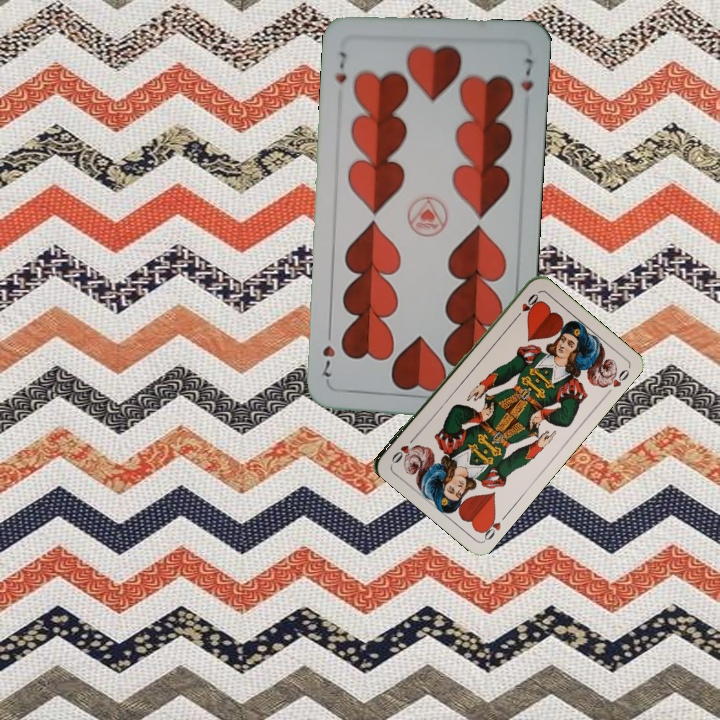H7: (331, 47, 350, 86)
HO: (476, 509, 510, 544), (511, 289, 541, 323)
